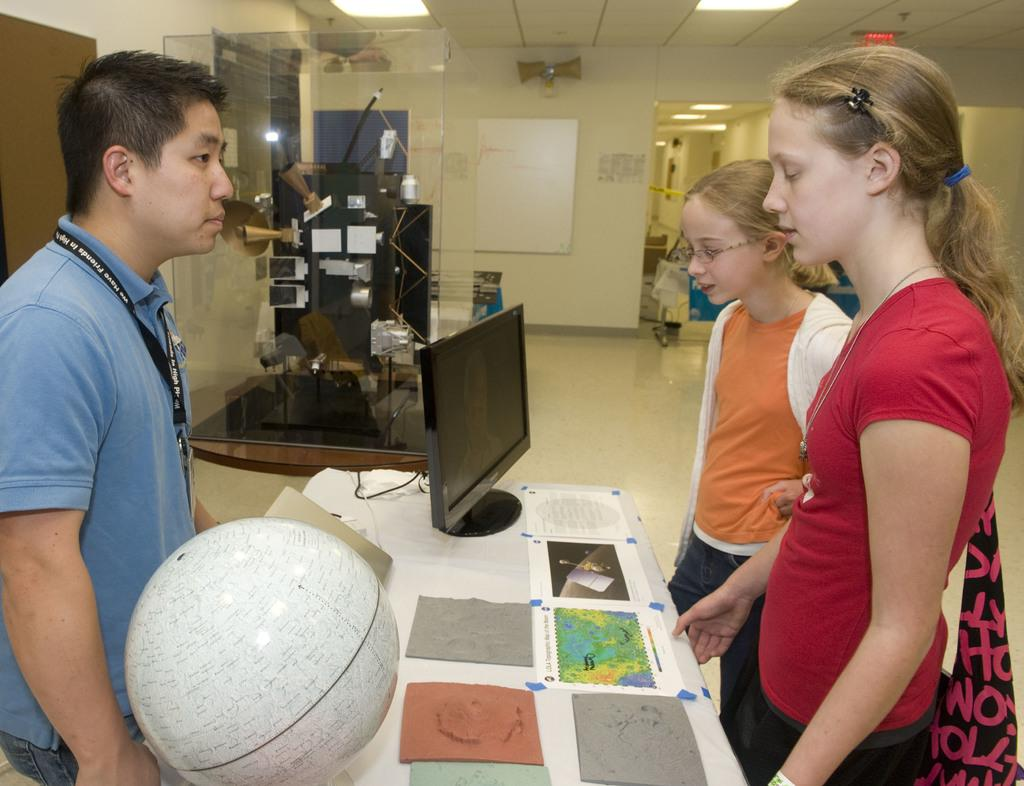Computer-monitor: (414, 299, 534, 538)
